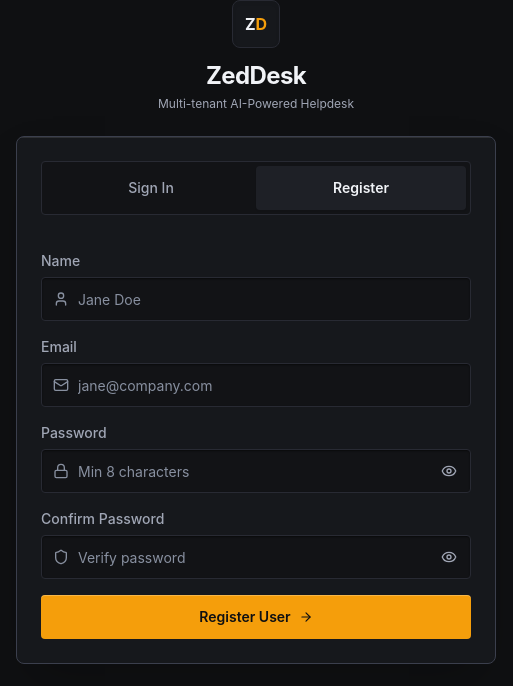
Test case: AuthCard Component › displays crimson borders and accessible inline alert text on Register validation failure
// Submit empty
Click the button "Register User": x=256, y=617 x1=41 y1=595 x2=471 y2=639
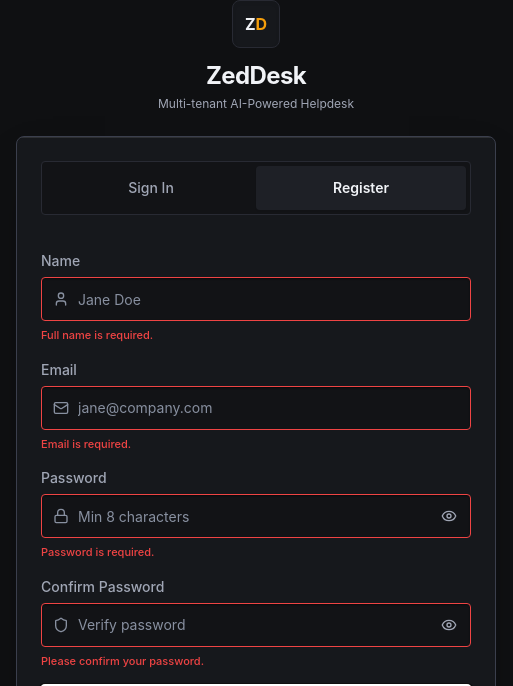
Expected: the text "Full name is required." is shown, x1=41 y1=328 x2=153 y2=342
Expected: the text "Email is required." is shown, x1=41 y1=436 x2=131 y2=450
Expected: the text "Password is required." is shown, x1=41 y1=545 x2=154 y2=559
